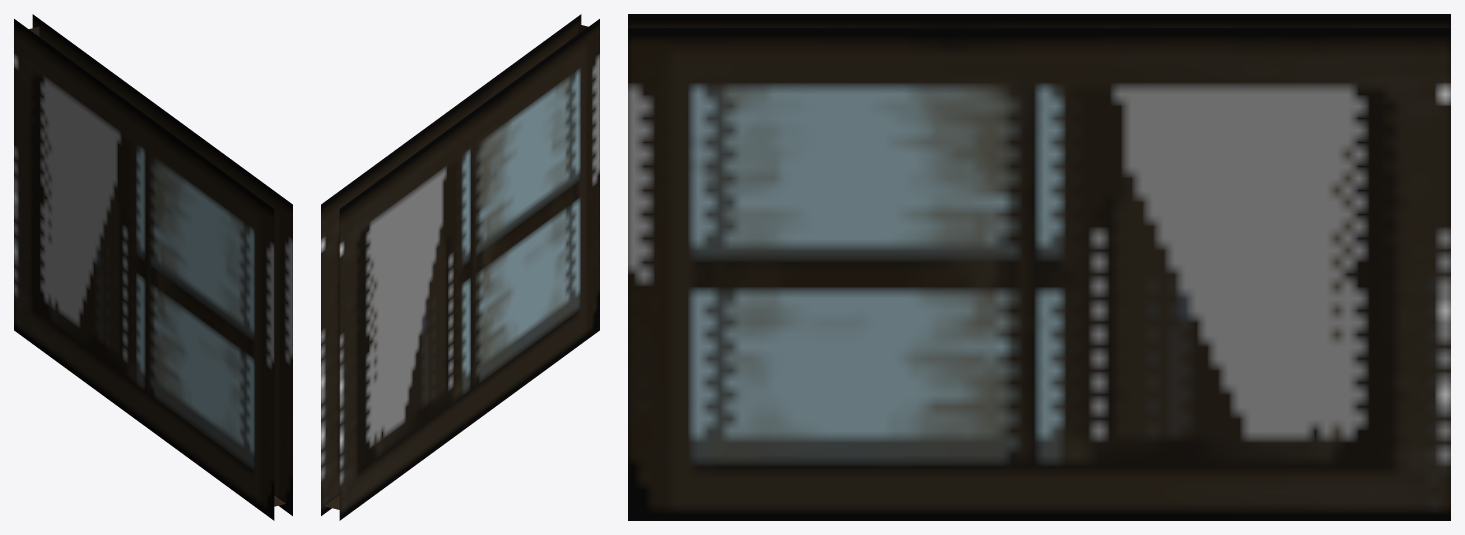
Rendered from pz_native_fixtures_windows_01_2_frame.obj.
The picture shows the model from 3 angles, left to right: view 1: azimuth 30°, elevation 25°; view 2: azimuth 150°, elevation 25°; view 3: azimuth 270°, elevation 25°; orthographic projection. The views are drawn at different scales.
Visible parts, largest first — view 1: pz_native_fixtures_windows_01_2_frame; view 2: pz_native_fixtures_windows_01_2_frame; view 3: pz_native_fixtures_windows_01_2_frame.
Part boxes in pixels (x1=…): pz_native_fixtures_windows_01_2_frame: x1=14, y1=14, x2=292, y2=520; pz_native_fixtures_windows_01_2_frame: x1=321, y1=14, x2=599, y2=520; pz_native_fixtures_windows_01_2_frame: x1=628, y1=14, x2=1450, y2=520.
Size of the model in its own units: 0.04 by 0.6406 by 0.9696.
1 material, 1 textured.
